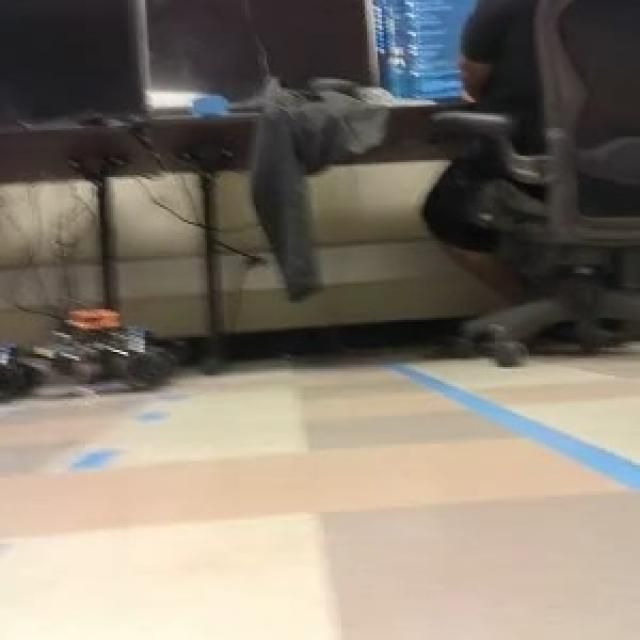obstacle: (1, 311, 175, 399)
